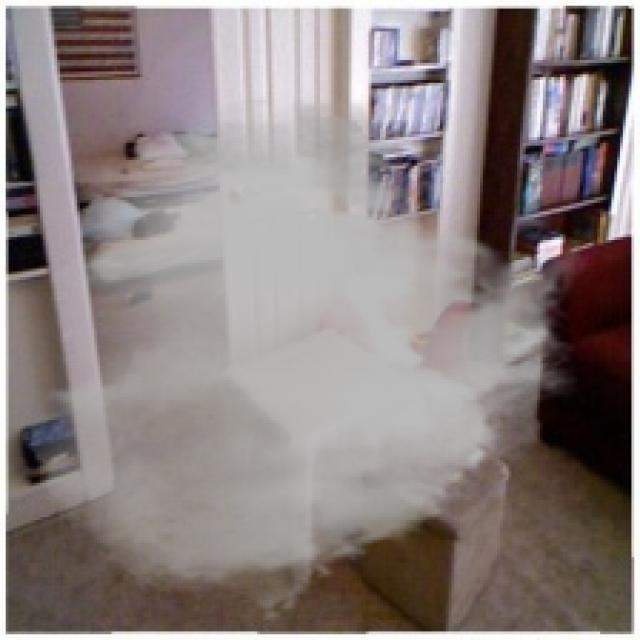smoke: (26, 91, 591, 623)
